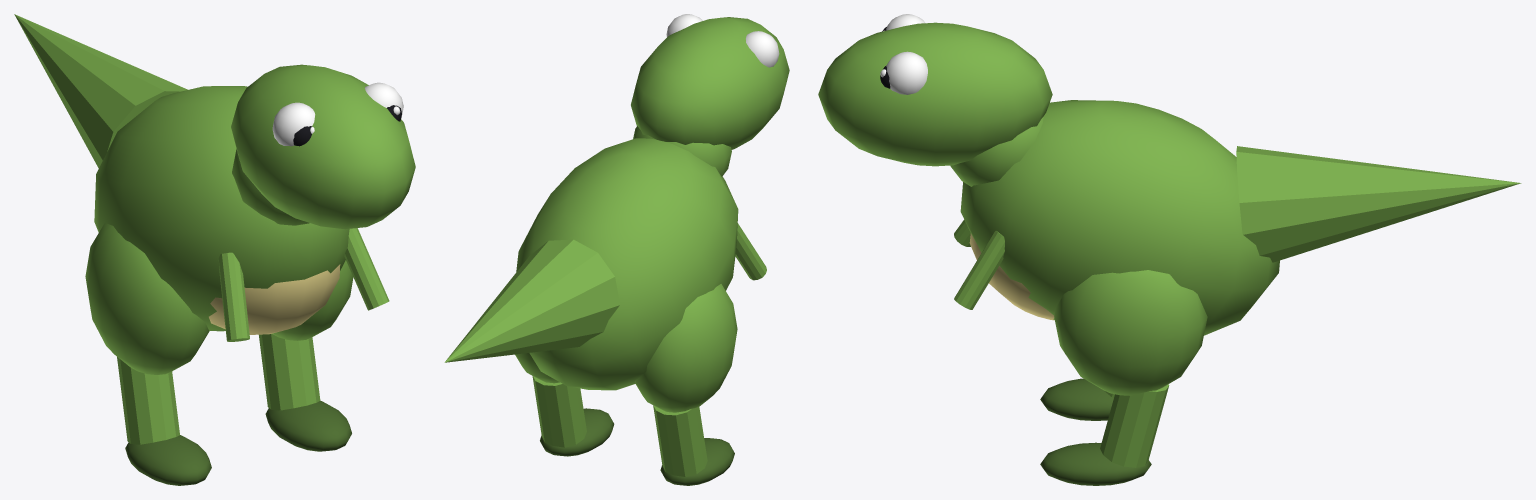
The picture shows the model from 3 angles, left to right: view 1: azimuth 30°, elevation 25°; view 2: azimuth 150°, elevation 25°; view 3: azimuth 270°, elevation 25°; orthographic projection. The views are drawn at different scales.
Visible parts, largest first — view 1: Compy; view 2: Compy; view 3: Compy.
Part boxes in pixels (box(x1,y1,x2,y2)): Compy: box(14, 14, 415, 485); Compy: box(444, 14, 789, 485); Compy: box(818, 14, 1521, 485).
Size of the model in its own units: 1.42 by 2.48 by 3.78.
Materials: 1 (1 with a texture image).
